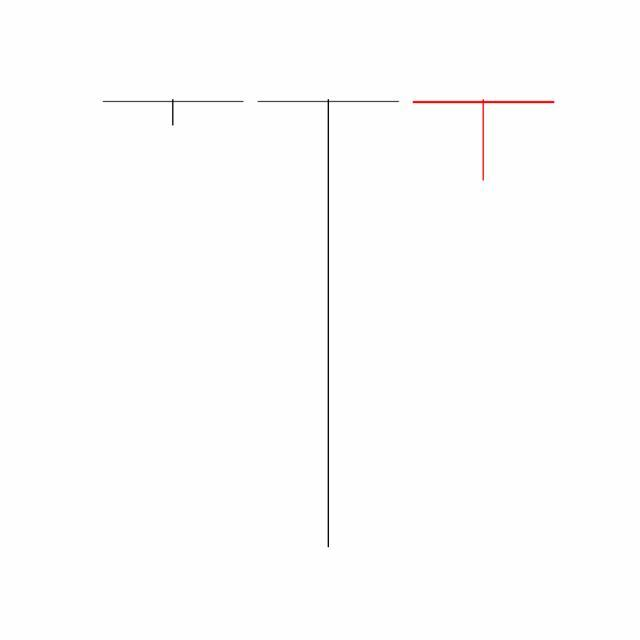Dragonfly Doji: (250, 95, 407, 553)
